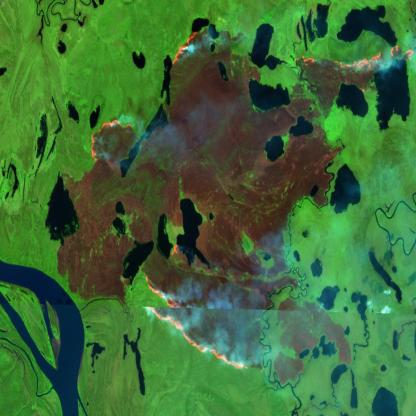fire: (88, 24, 416, 165), (138, 266, 270, 378)
